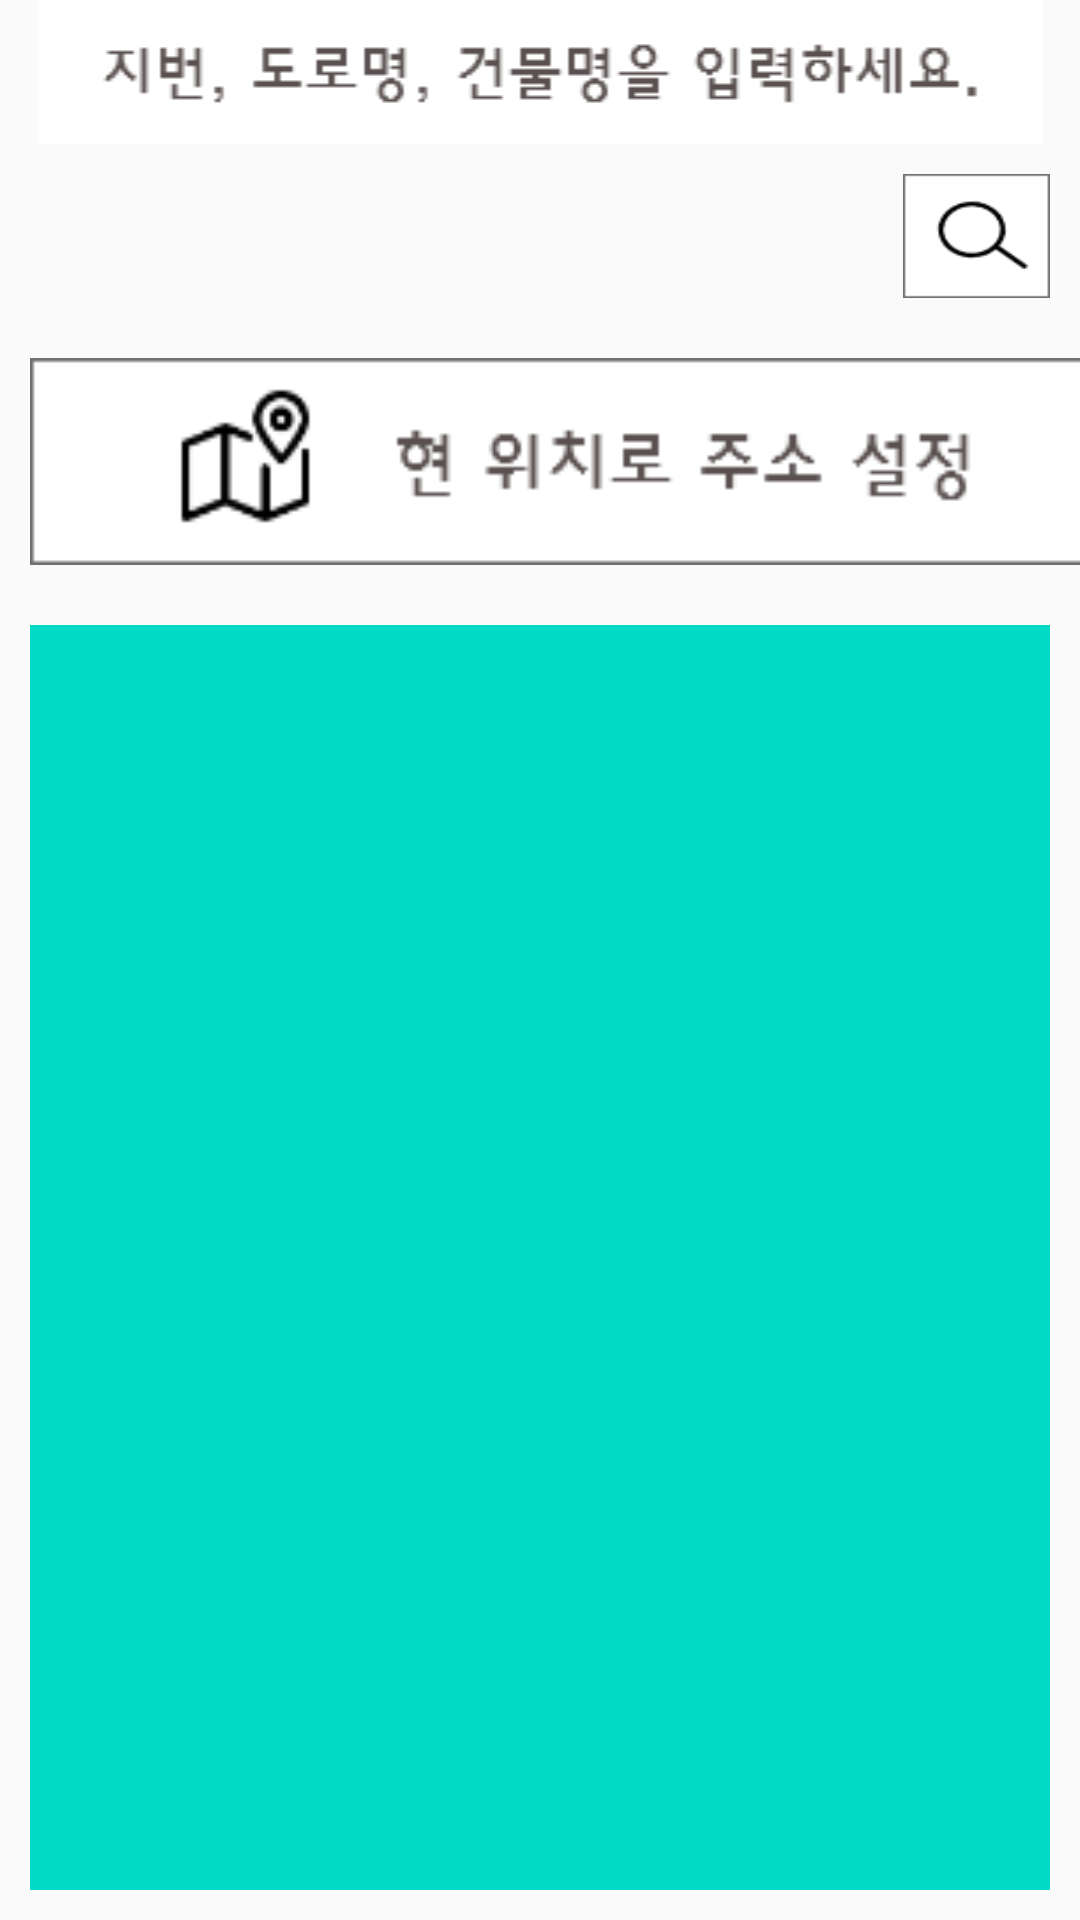

Screen size 1080×1920. Icon name, then its center in pixels as (x,y):
find: (976,236)
